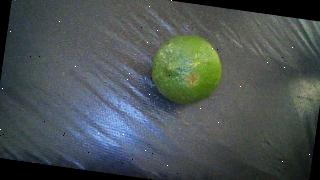DESECHO: (147, 31, 226, 109)
